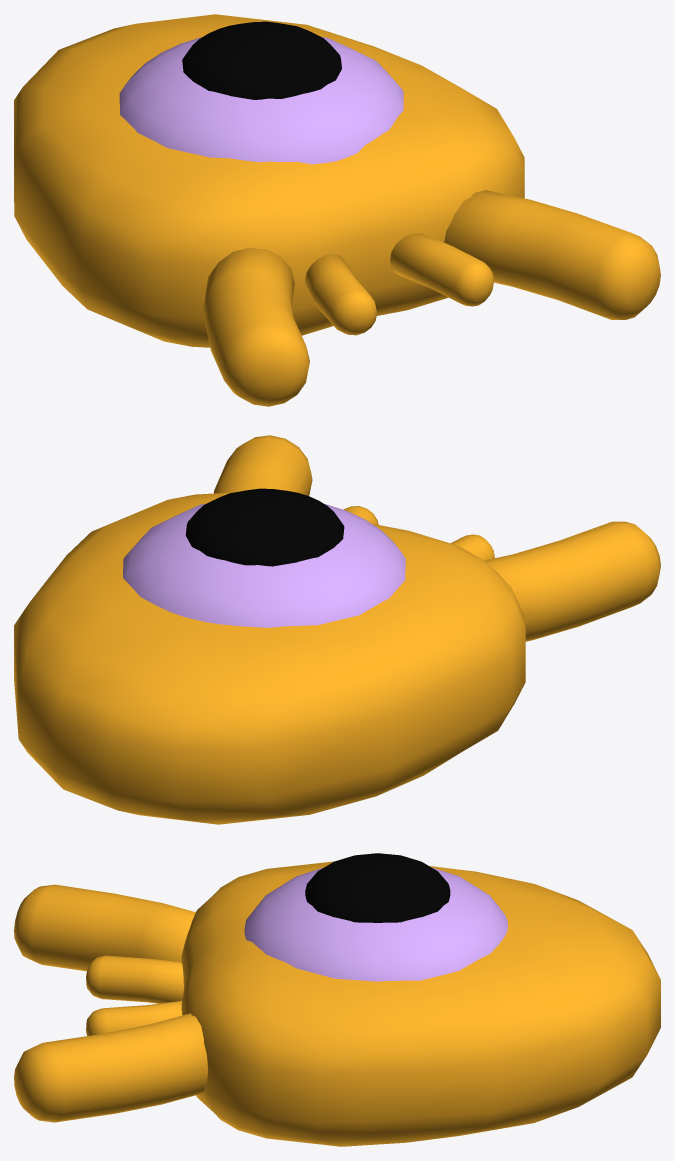
The model's file is yellow_enemy.glb.
The picture shows the model from 3 angles, top to bottom: view 1: azimuth 30°, elevation 25°; view 2: azimuth 150°, elevation 25°; view 3: azimuth 270°, elevation 25°; orthographic projection. The views are drawn at different scales.
Parts seen in each view (by area): view 1: Sphere; view 2: Sphere; view 3: Sphere.
Part boxes in pixels (left/top/right/bottom): Sphere: left=14, top=14, right=660, bottom=406; Sphere: left=14, top=435, right=660, bottom=824; Sphere: left=14, top=853, right=660, bottom=1146.
Bounding box in the file's own units: 2.29 × 1.22 × 3.28.
